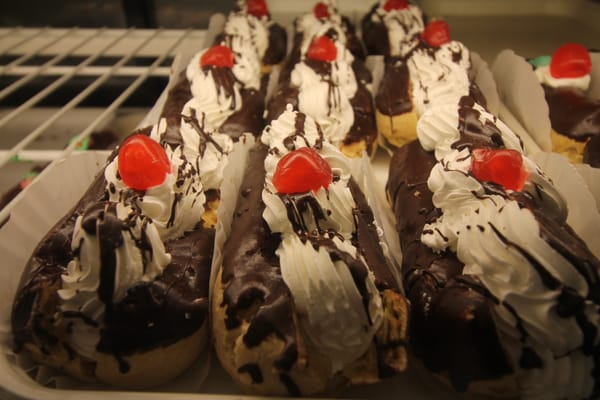salad: (8, 119, 220, 388)
